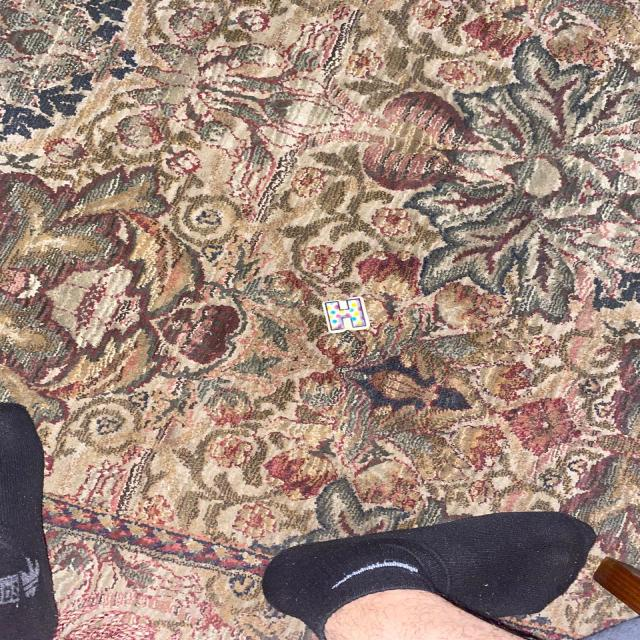H: (323, 298, 369, 332)
